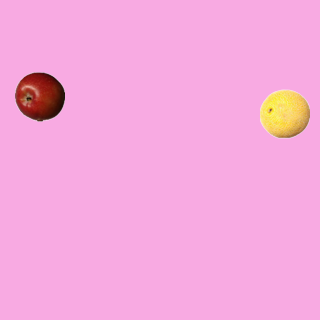Apple Braeburn: (14, 71, 64, 121)
Cantaloupe 1: (259, 88, 309, 138)
